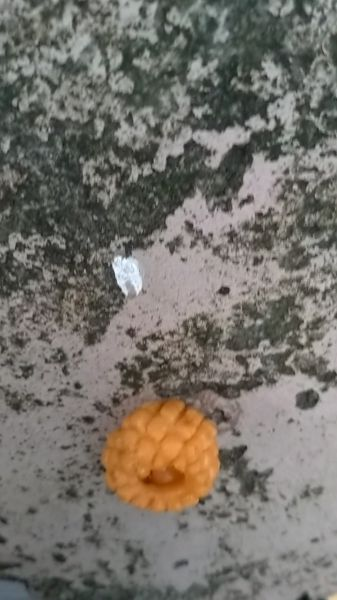eggs: (94, 394, 223, 515)
